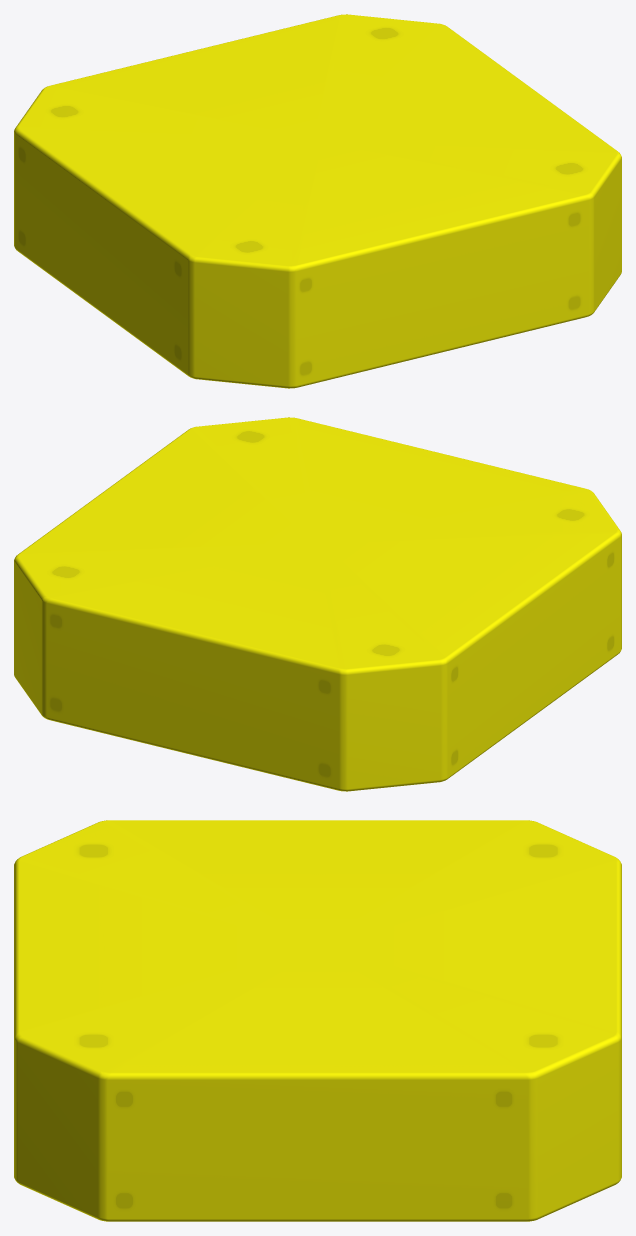
File: WorkOctagon.fbx
3 views of the same model, one above another, from view 1: azimuth 30°, elevation 25°; view 2: azimuth 150°, elevation 25°; view 3: azimuth 270°, elevation 25° (orthographic). The views are drawn at different scales.
Visible parts, largest first — view 1: pCylinder1; view 2: pCylinder1; view 3: pCylinder1.
Part boxes in pixels (left/top/right/bottom): pCylinder1: left=14, top=14, right=621, bottom=388; pCylinder1: left=14, top=417, right=621, bottom=791; pCylinder1: left=14, top=820, right=621, bottom=1221.
Size of the model in its own units: 1.85 by 0.5 by 1.85.
